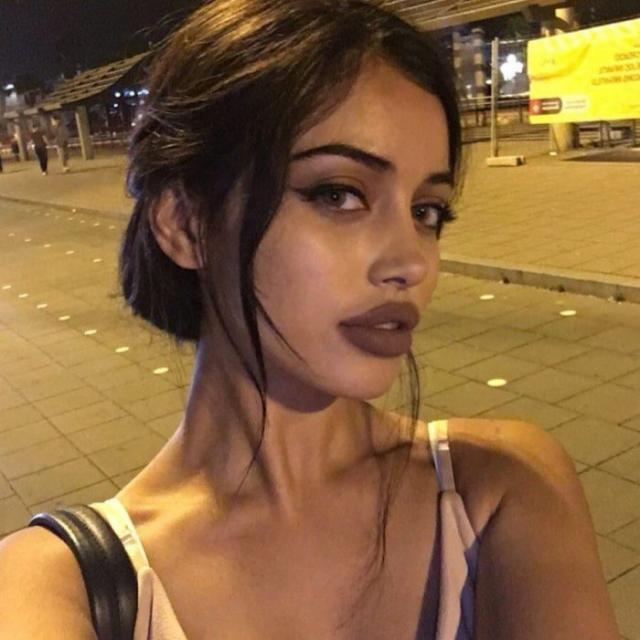earlobe: (146, 174, 208, 271)
